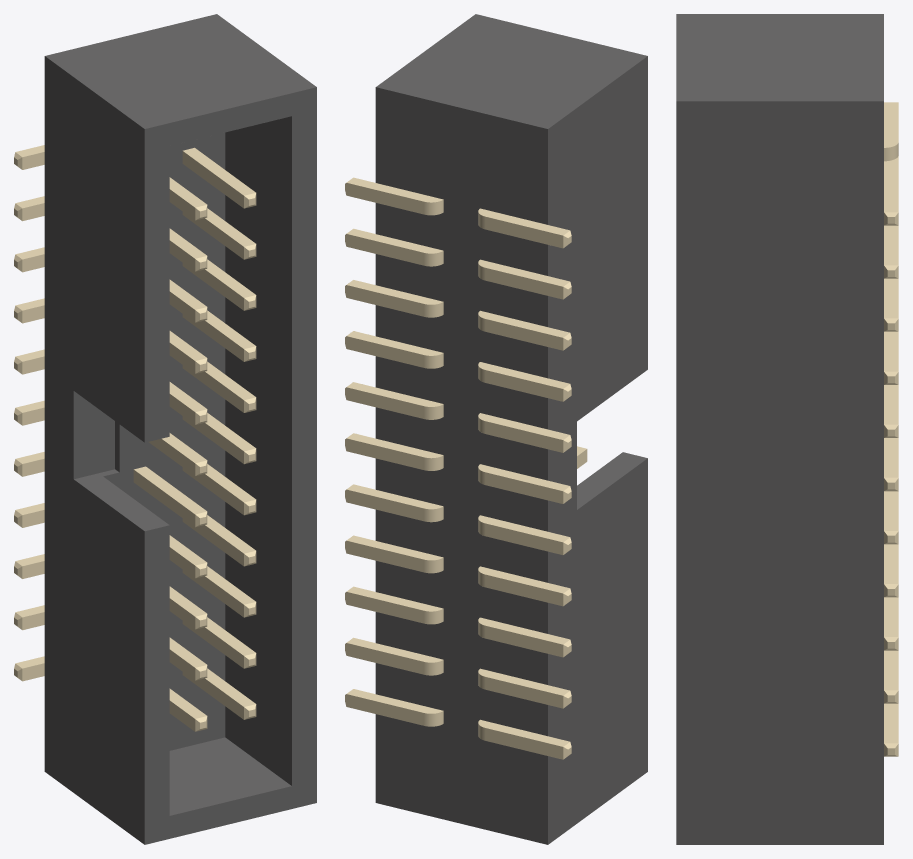
The model's file is IDC-Header_2x11_P2.54mm_Vertical_SMD.glb.
3 renders of one model, left to right at view 1: azimuth 30°, elevation 25°; view 2: azimuth 150°, elevation 25°; view 3: azimuth 270°, elevation 25°, orthographic. The views are drawn at different scales.
Visible parts, largest first — view 1: Shape_IndexedFaceSet, Shape_IndexedFaceSet.004, Shape_IndexedFaceSet.011, Shape_IndexedFaceSet.015, Shape_IndexedFaceSet.001, Shape_IndexedFaceSet.010, Shape_IndexedFaceSet.006, Shape_IndexedFaceSet.005, Shape_IndexedFaceSet.271, Shape_IndexedFaceSet.277, Shape_IndexedFaceSet.191, Shape_IndexedFaceSet.186 (+20 smaller); view 2: Shape_IndexedFaceSet.002, Shape_IndexedFaceSet, Shape_IndexedFaceSet.001, Shape_IndexedFaceSet.005, Shape_IndexedFaceSet.068, Shape_IndexedFaceSet.102, Shape_IndexedFaceSet.221, Shape_IndexedFaceSet.238, Shape_IndexedFaceSet.272, Shape_IndexedFaceSet.357, Shape_IndexedFaceSet.017, Shape_IndexedFaceSet.034 (+36 smaller); view 3: Shape_IndexedFaceSet.008, Shape_IndexedFaceSet.001, Shape_IndexedFaceSet.186, Shape_IndexedFaceSet.356, Shape_IndexedFaceSet.016, Shape_IndexedFaceSet.033, Shape_IndexedFaceSet.135, Shape_IndexedFaceSet.152, Shape_IndexedFaceSet.169, Shape_IndexedFaceSet.050, Shape_IndexedFaceSet.067, Shape_IndexedFaceSet.084 (+2 smaller).
Part boxes in pixels (x1,y1,x2,y2): Shape_IndexedFaceSet: (44,56,144,844); Shape_IndexedFaceSet.004: (144,87,316,844); Shape_IndexedFaceSet.011: (225,116,291,785); Shape_IndexedFaceSet.015: (103,132,225,750); Shape_IndexedFaceSet.001: (45,14,316,128); Shape_IndexedFaceSet.010: (169,737,291,815); Shape_IndexedFaceSet.006: (73,391,114,478); Shape_IndexedFaceSet.005: (74,469,169,531); Shape_IndexedFaceSet.271: (16,452,206,514); Shape_IndexedFaceSet.277: (133,470,195,526); Shape_IndexedFaceSet.191: (182,151,243,208); Shape_IndexedFaceSet.186: (183,147,255,195); Shape_IndexedFaceSet.002: (375,87,547,844); Shape_IndexedFaceSet: (548,56,647,844); Shape_IndexedFaceSet.001: (376,14,647,128); Shape_IndexedFaceSet.005: (577,452,647,509); Shape_IndexedFaceSet.068: (346,540,424,572); Shape_IndexedFaceSet.102: (346,438,424,469); Shape_IndexedFaceSet.221: (485,677,563,708); Shape_IndexedFaceSet.238: (485,625,563,657); Shape_IndexedFaceSet.272: (485,523,563,554); Shape_IndexedFaceSet.357: (485,216,563,248); Shape_IndexedFaceSet.017: (346,694,424,725); Shape_IndexedFaceSet.034: (346,643,424,674); Shape_IndexedFaceSet.008: (676,101,883,844); Shape_IndexedFaceSet.001: (676,14,883,101); Shape_IndexedFaceSet.186: (884,166,898,212); Shape_IndexedFaceSet.356: (884,102,898,147); Shape_IndexedFaceSet.016: (884,703,898,743); Shape_IndexedFaceSet.033: (884,650,898,690); Shape_IndexedFaceSet.135: (884,331,898,371); Shape_IndexedFaceSet.152: (884,278,898,318); Shape_IndexedFaceSet.169: (884,225,898,265); Shape_IndexedFaceSet.050: (884,597,898,636); Shape_IndexedFaceSet.067: (884,544,898,583); Shape_IndexedFaceSet.084: (884,491,898,530).
Bounding box in the file's own units: 4.57 × 14 × 3.8.
